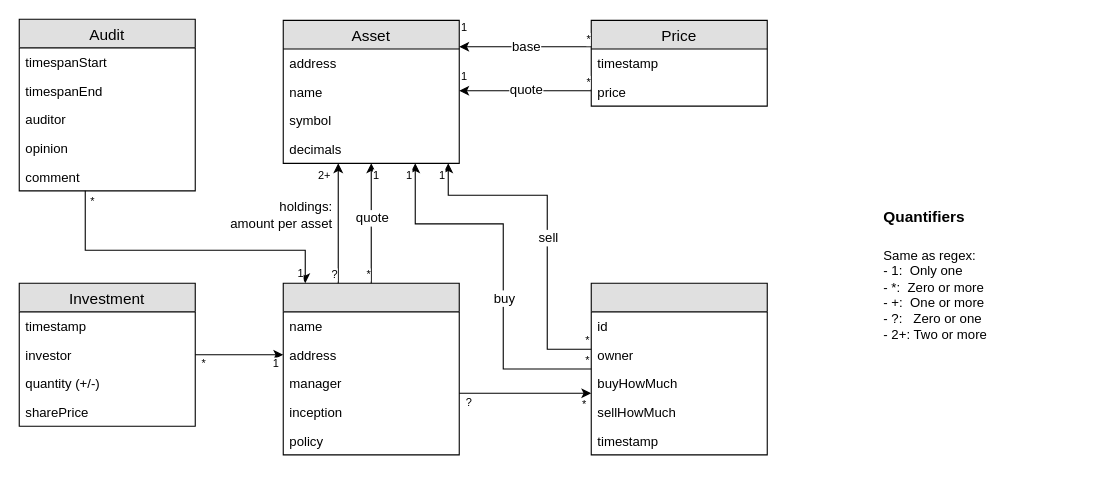
Some shapes in this 1107 by 477 pixel diagram are drawn without their labels. The box of each missing label's shape, as (x1, y1, x2, y2) in pixels:
Fund: (282, 282, 459, 455)
Trade: (590, 282, 767, 455)
